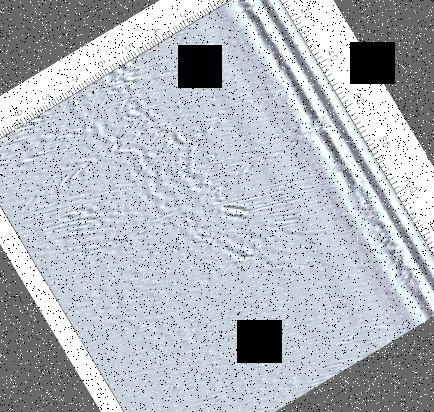Hyperbola: (169, 27, 231, 79), (54, 138, 114, 188), (186, 138, 227, 175), (366, 310, 404, 344)
